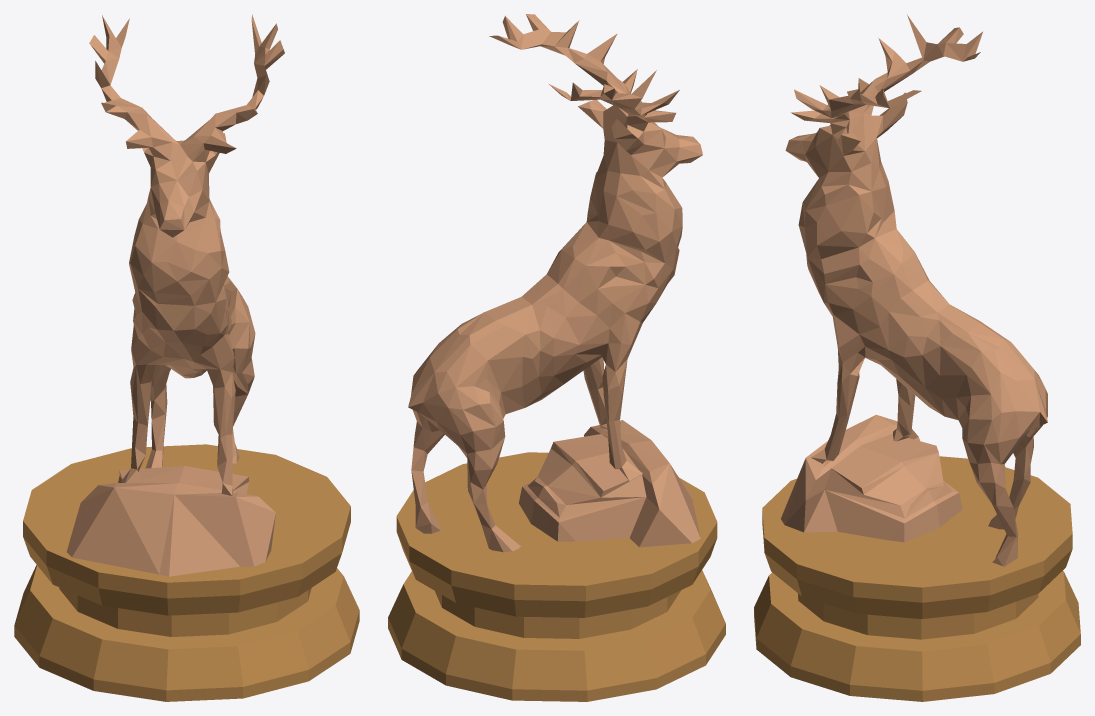
The model's file is deer.fbx.
3 views of the same model, side by side, from view 1: azimuth 30°, elevation 25°; view 2: azimuth 150°, elevation 25°; view 3: azimuth 270°, elevation 25° (orthographic). The views are drawn at different scales.
Visible parts, largest first — view 1: Prop_Statue_Wooden_Tribal_Elk_Stag_01, Prop_Statue_Wooden_Tribal_Elk_Stag_01.001; view 2: Prop_Statue_Wooden_Tribal_Elk_Stag_01.001, Prop_Statue_Wooden_Tribal_Elk_Stag_01; view 3: Prop_Statue_Wooden_Tribal_Elk_Stag_01.001, Prop_Statue_Wooden_Tribal_Elk_Stag_01.
Boxes of the visible parts, x1=… form: Prop_Statue_Wooden_Tribal_Elk_Stag_01: x1=14, y1=444, x2=359, y2=701; Prop_Statue_Wooden_Tribal_Elk_Stag_01.001: x1=66, y1=14, x2=284, y2=576; Prop_Statue_Wooden_Tribal_Elk_Stag_01.001: x1=408, y1=14, x2=702, y2=552; Prop_Statue_Wooden_Tribal_Elk_Stag_01: x1=388, y1=452, x2=725, y2=701; Prop_Statue_Wooden_Tribal_Elk_Stag_01.001: x1=781, y1=15, x2=1047, y2=566; Prop_Statue_Wooden_Tribal_Elk_Stag_01: x1=754, y1=456, x2=1080, y2=701.
Size of the model in its own units: 435 by 833 by 427.
